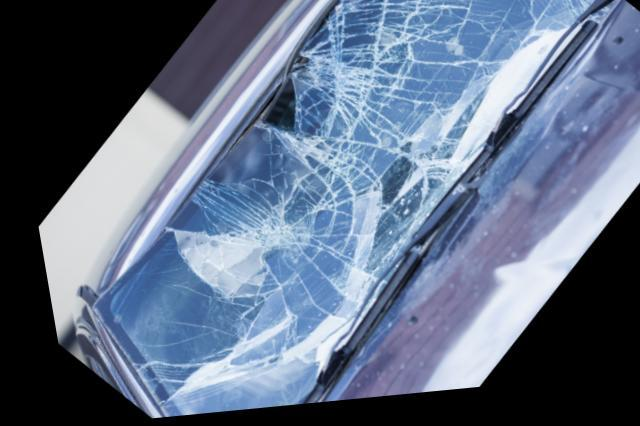glass shatter: (83, 0, 605, 419)
